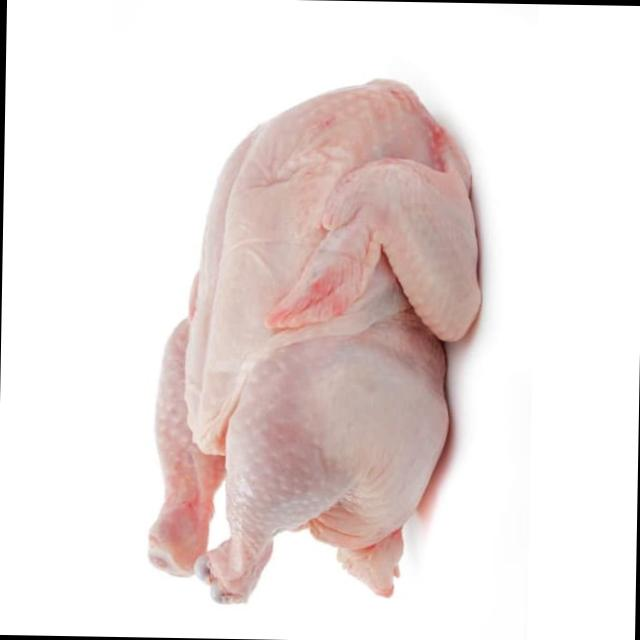chicken: (148, 80, 477, 610)
